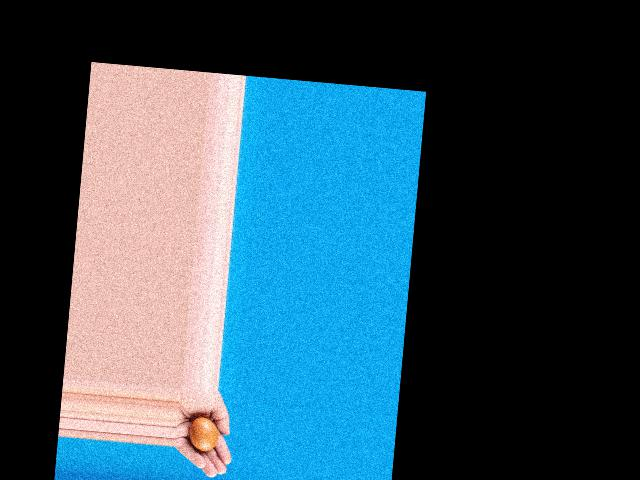egg: (188, 416, 219, 453)
